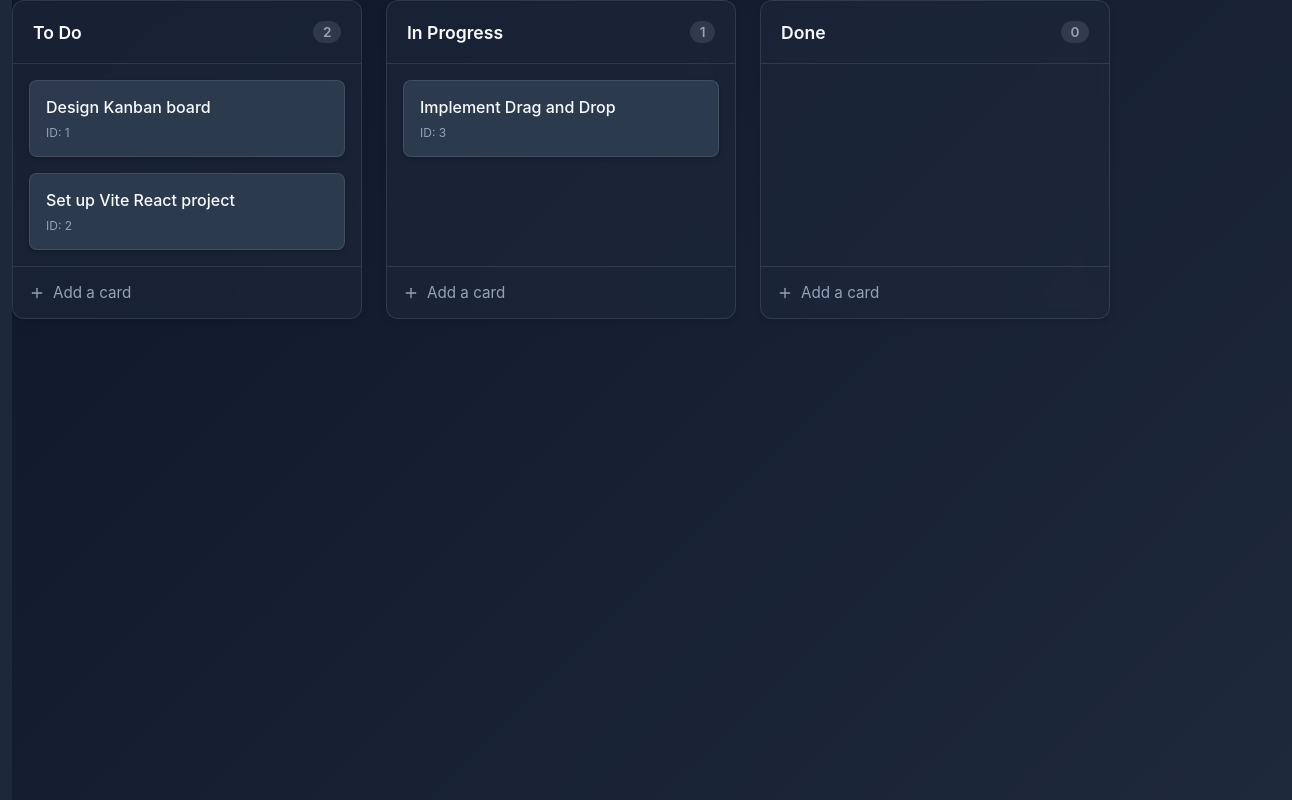
Test: allows creating a new task in KanbanBoard
This screenshot has width=1292, height=800.
// Click the first "Add a card" button
Click the button "Add a card" below "To Do".
click(92, 293)  # box x1=13 y1=266 x2=361 y2=318
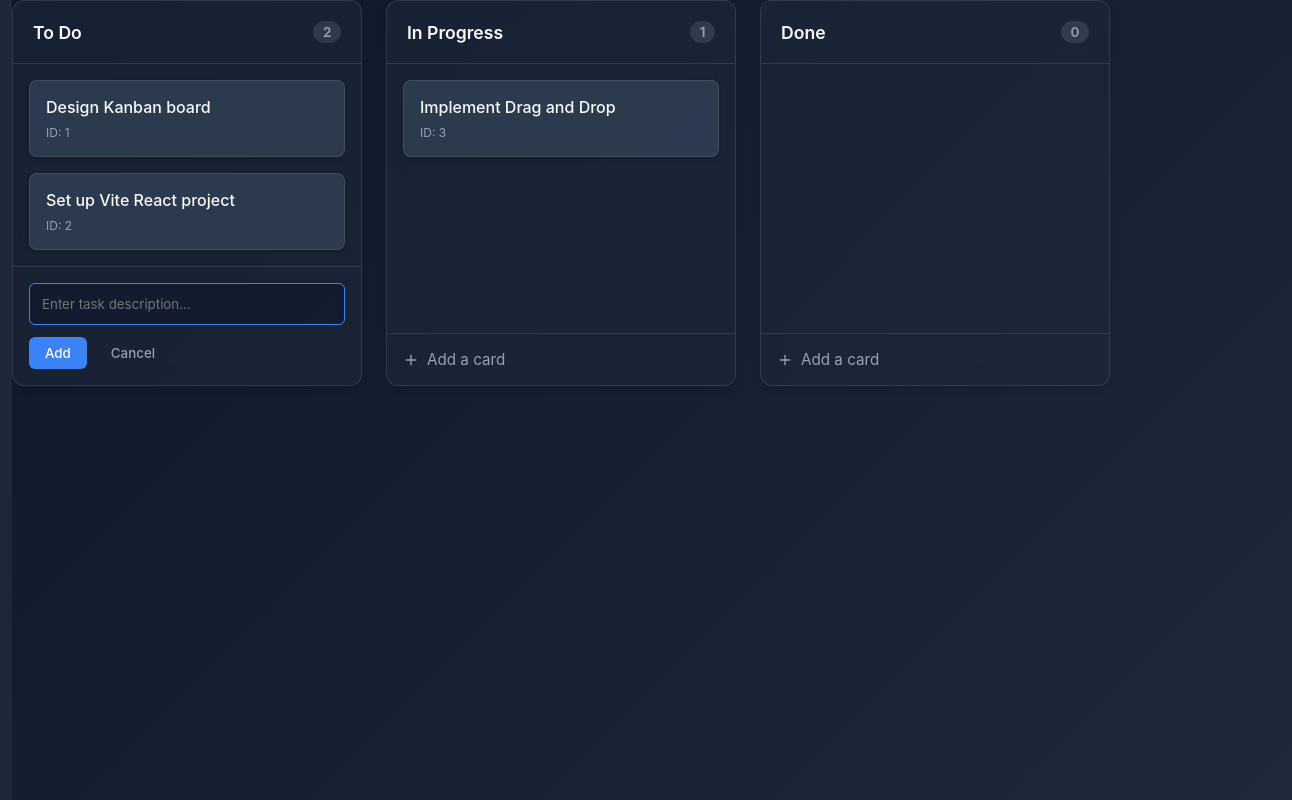
Type "My Brand New Task" into the field with placeholder "Enter task description...".
click(187, 304); type("My Brand New Task")  # box x1=29 y1=283 x2=345 y2=325
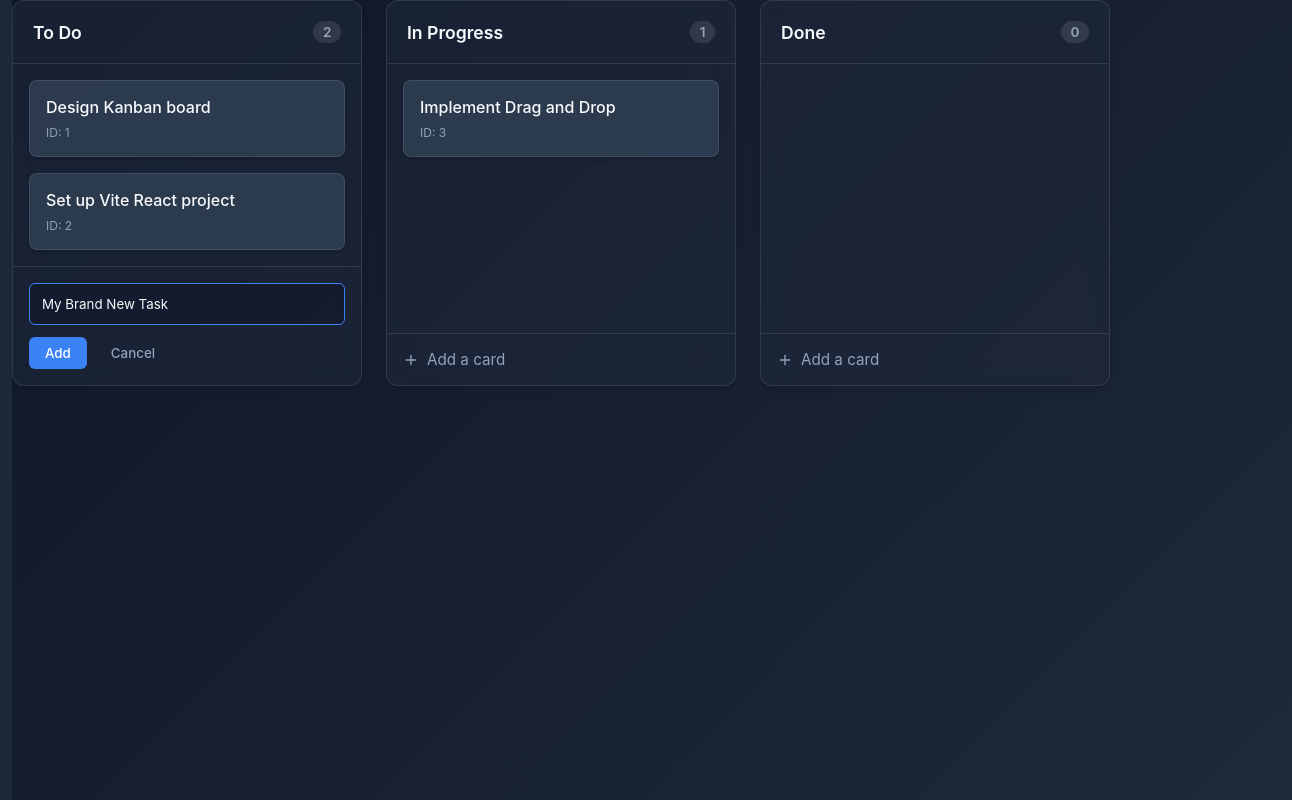
Click the button "Add".
click(58, 353)  # box x1=29 y1=337 x2=87 y2=369
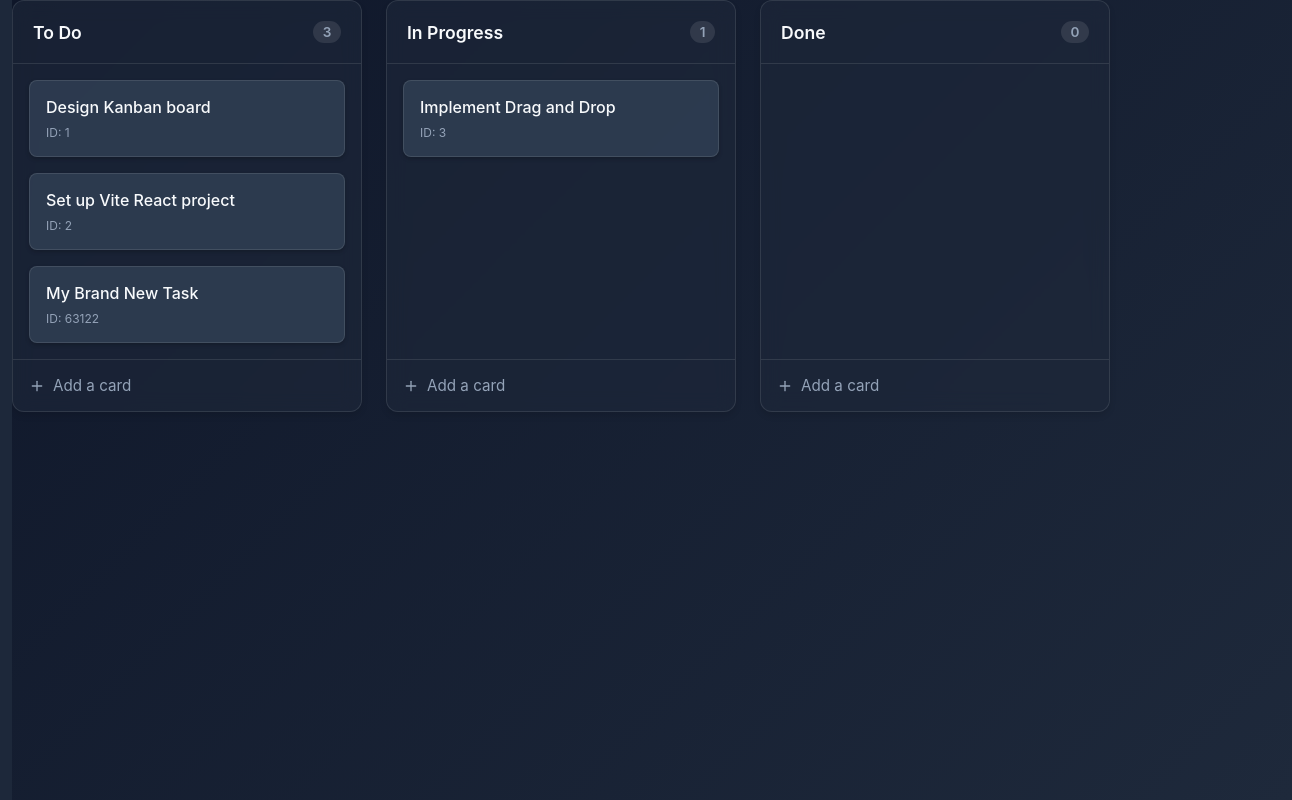
Now the text "My Brand New Task" is shown, box x1=46 y1=283 x2=198 y2=303
